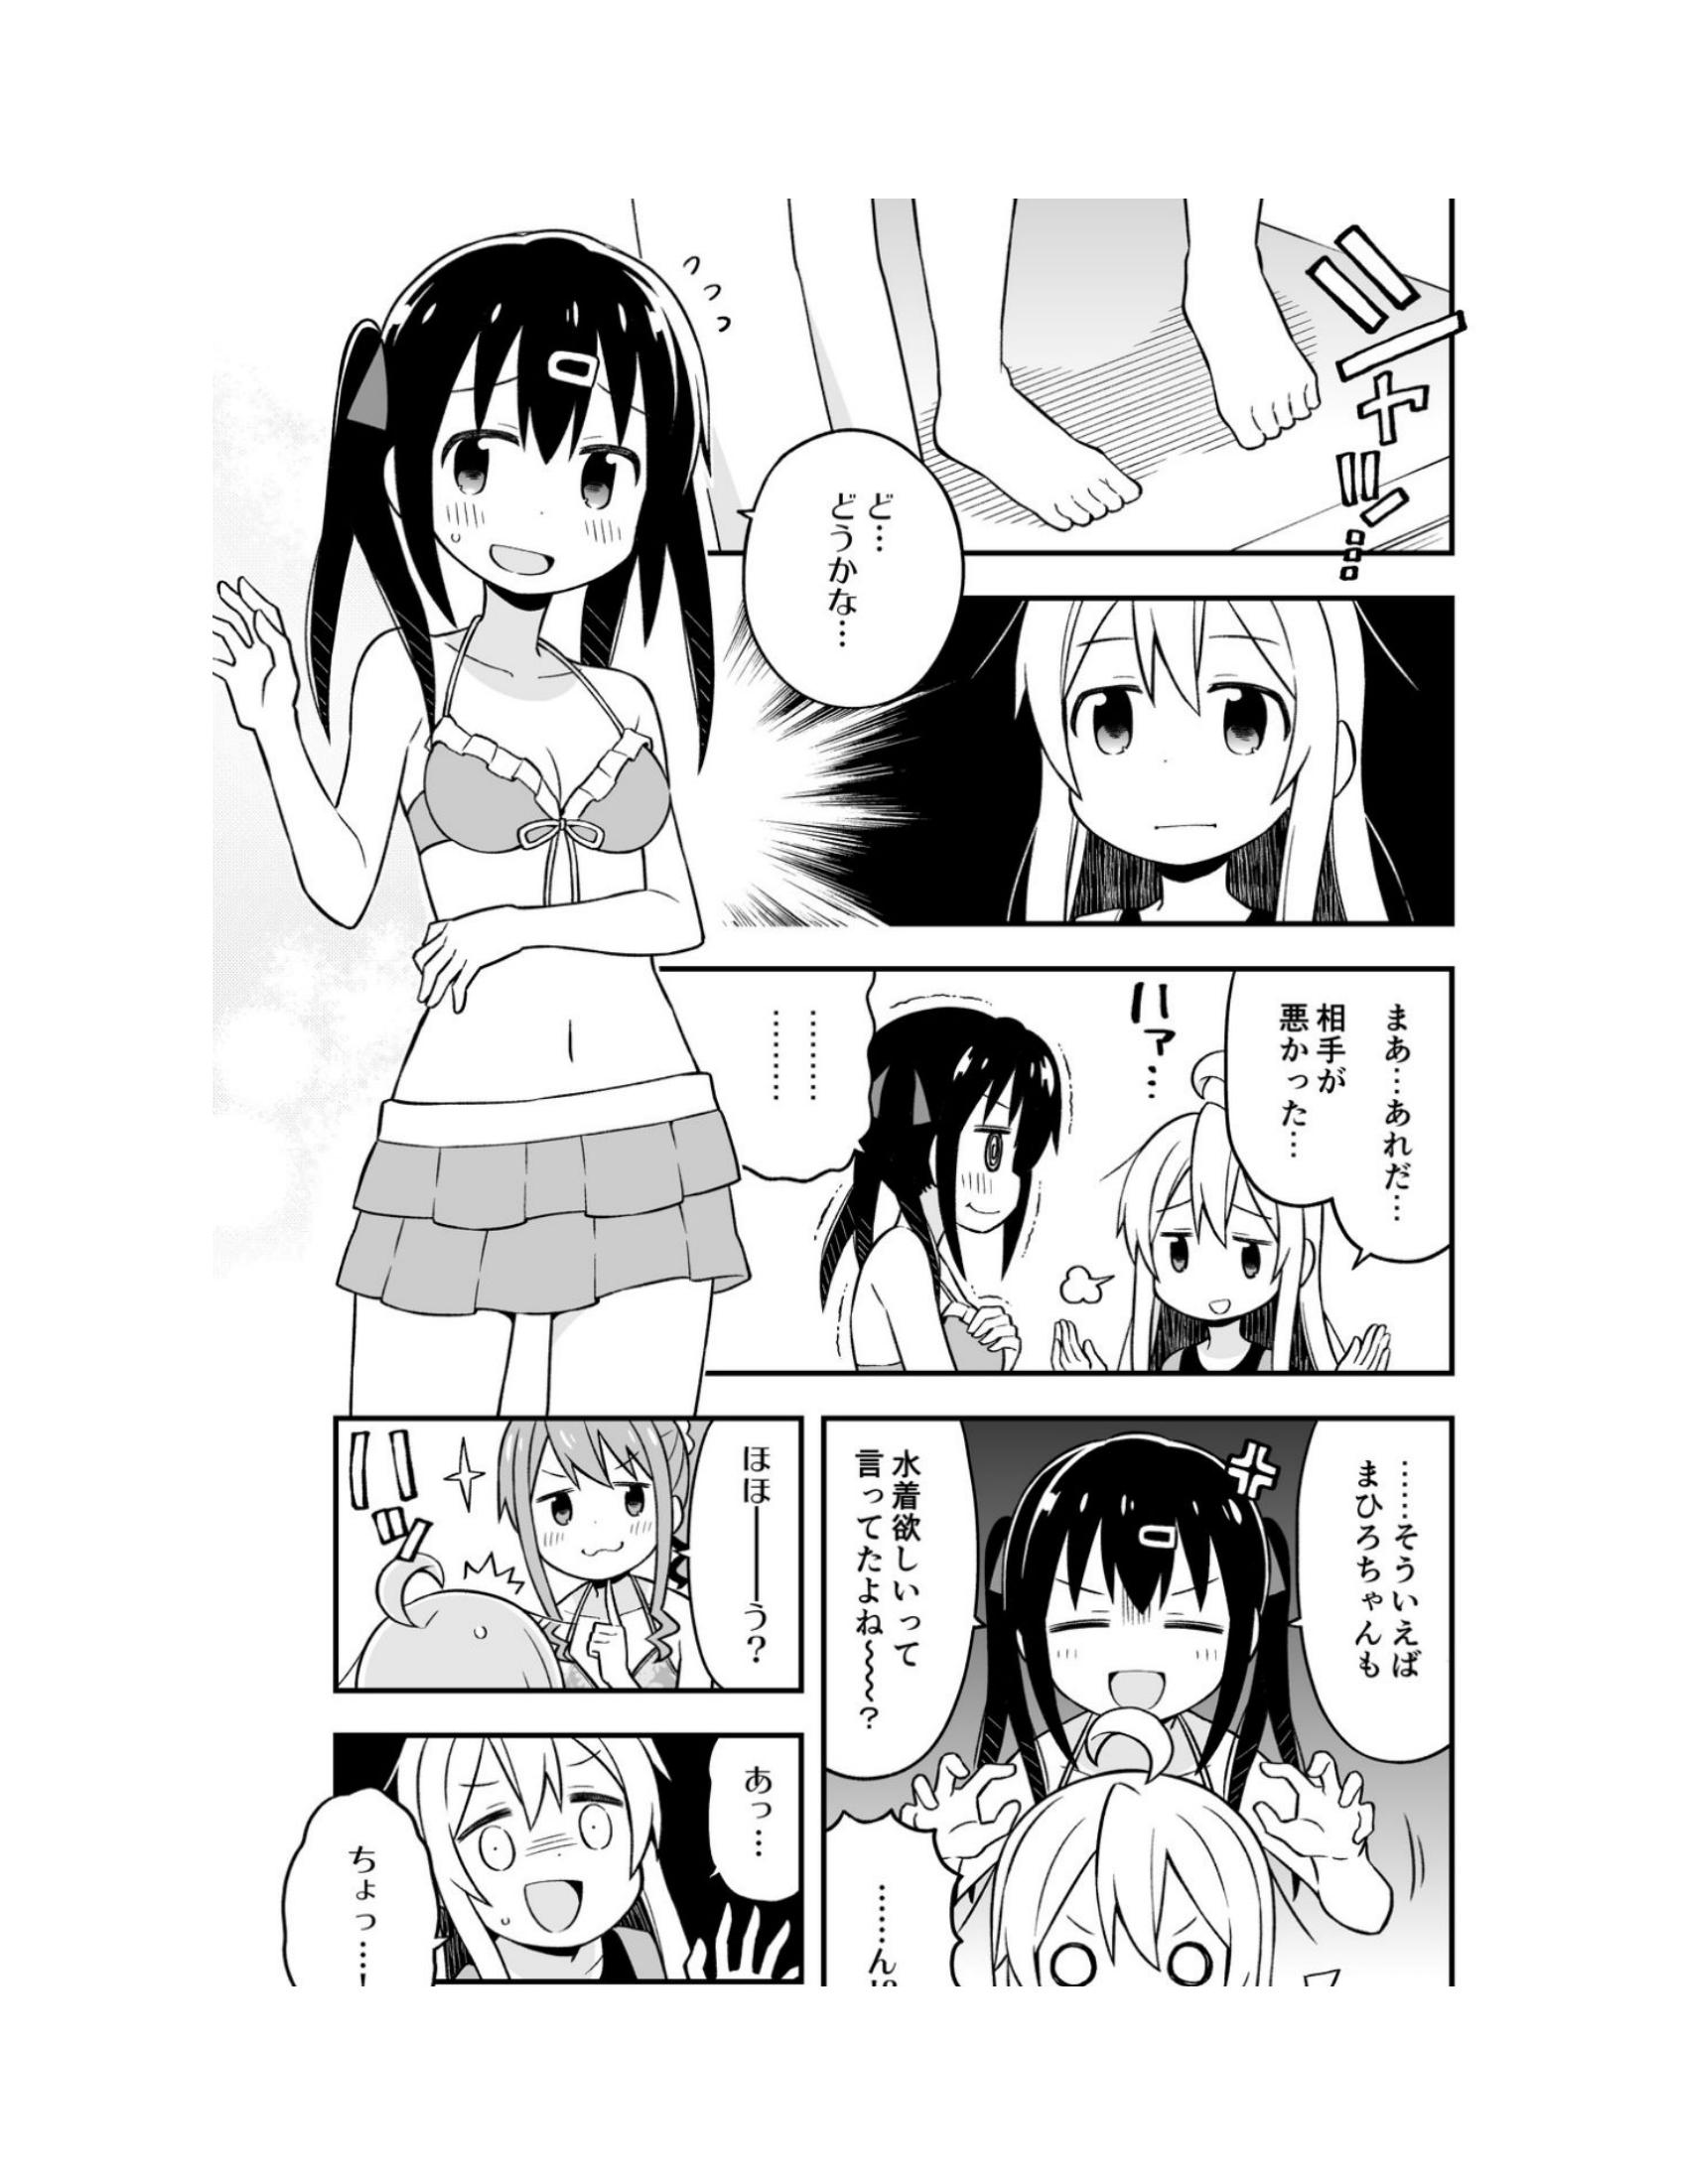a: (1280, 1427, 1482, 1760), (755, 434, 991, 720), (807, 1413, 991, 1764), (1250, 948, 1445, 1255), (672, 1386, 853, 1686), (261, 1817, 477, 2049), (676, 1709, 840, 1932)
